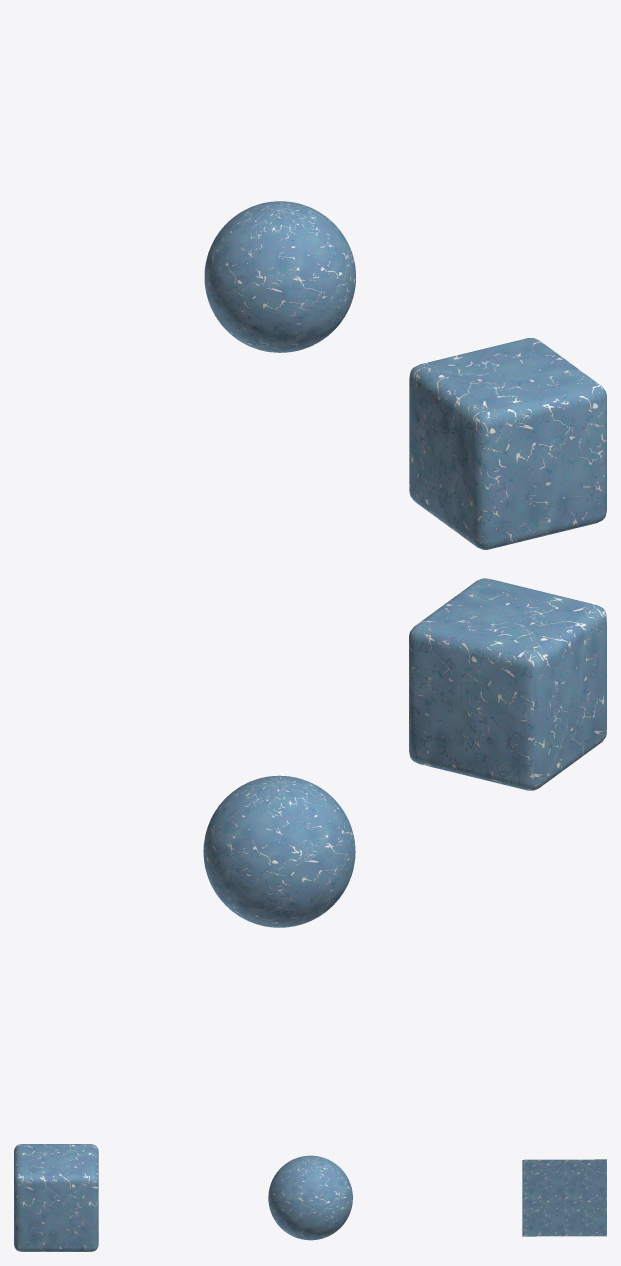
Rendered from ice__tile_texture.glb.
3 views of the same model, one above another, from view 1: azimuth 30°, elevation 25°; view 2: azimuth 150°, elevation 25°; view 3: azimuth 270°, elevation 25° (orthographic). The views are drawn at different scales.
Parts seen in each view (by area): view 1: Cube, Sphere; view 2: Cube, Sphere; view 3: Cube, Plane, Sphere.
Boxes of the visible parts, x1=… form: Cube: x1=409, y1=338, x2=606, y2=549; Sphere: x1=204, y1=201, x2=355, y2=352; Cube: x1=409, y1=578, x2=606, y2=790; Sphere: x1=203, y1=775, x2=355, y2=927; Cube: x1=14, y1=1144, x2=98, y2=1251; Plane: x1=522, y1=1159, x2=606, y2=1236; Sphere: x1=268, y1=1155, x2=352, y2=1240.
Size of the model in its own units: 2 by 2 by 14.01.
1 material, 1 textured.
